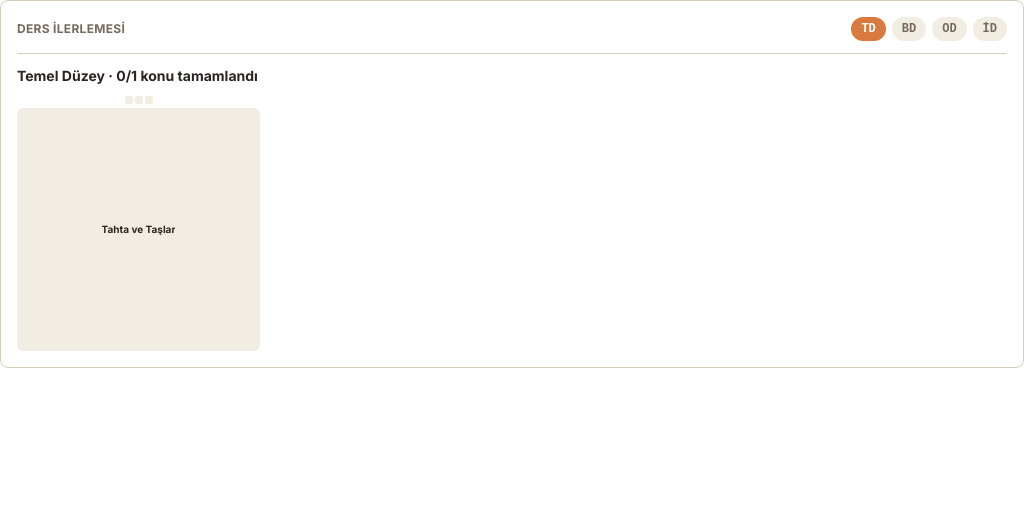
LessonProgressCard — Sporcu Profili Ders İlerlemesi + Ödevlerim (madde 2026-09-05) › bir Alt Konu'ya tıklayınca 3 mod sekmesi (Ödevini Yap/Süreli Pratik Yap/Kendini Test Et) görünür
This screenshot has width=1024, height=530.
Click the button with aria-label "1. konu: Tahta ve Taşlar": (138, 230) [17,108,260,351]
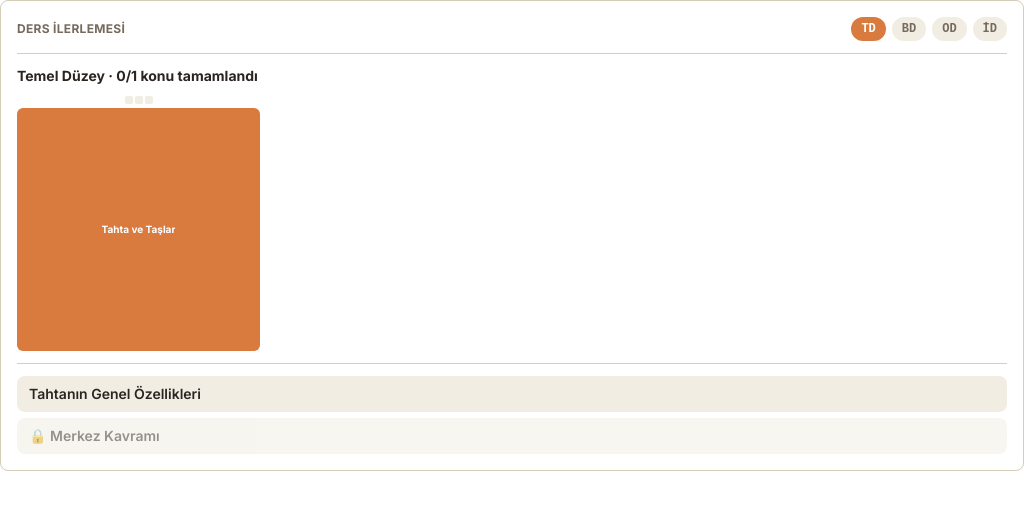
Check: the button "Tahtanın Genel Özellikleri" is shown
Click the button "Tahtanın Genel Özellikleri": (115, 394) [17,376,1007,412]
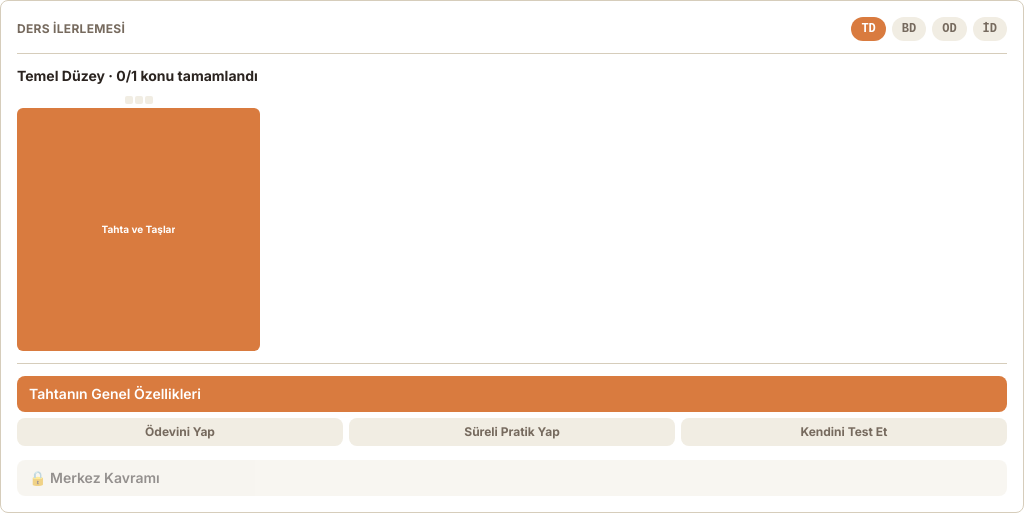
Check: the button "Ödevini Yap" is shown, box [17,418,343,446]
Check: the button "Süreli Pratik Yap" is shown, box [349,418,675,446]
Check: the button "Kendini Test Et" is shown, box [681,418,1007,446]
